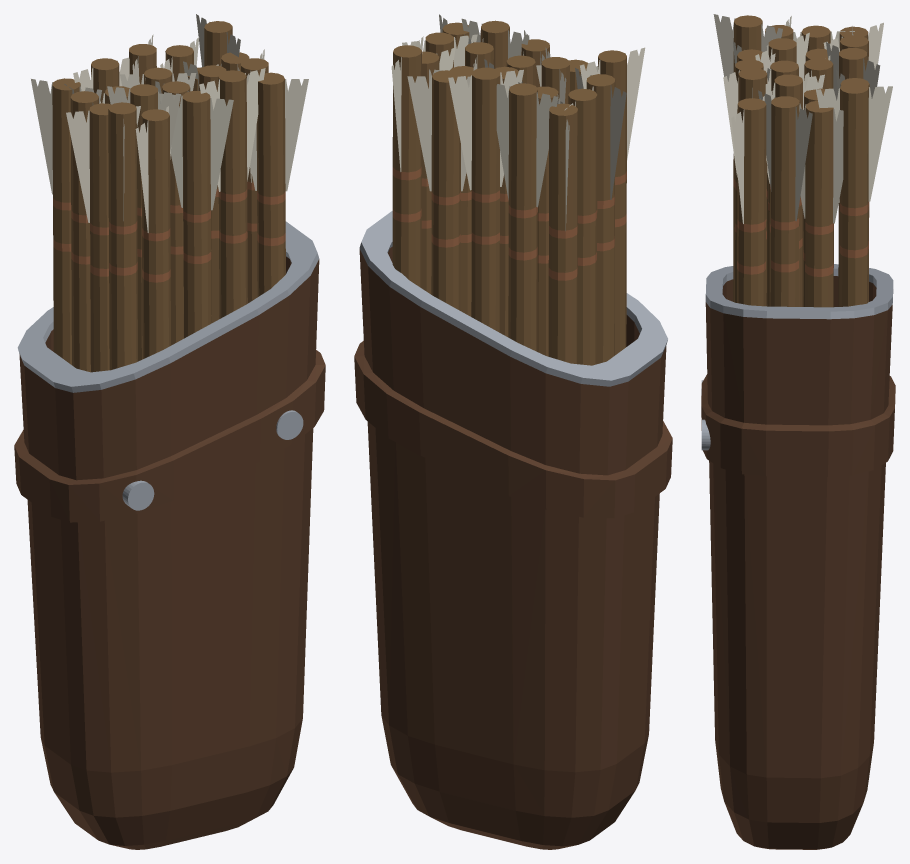
File: Quiver 1.fbx
The picture shows the model from 3 angles, left to right: view 1: azimuth 30°, elevation 25°; view 2: azimuth 150°, elevation 25°; view 3: azimuth 270°, elevation 25°; orthographic projection. The views are drawn at different scales.
Visible parts, largest first — view 1: Quiver -1; view 2: Quiver -1; view 3: Quiver -1.
Boxes of the visible parts, x1,y1,x2,y2 form: Quiver -1: (14, 14, 325, 849); Quiver -1: (354, 14, 672, 849); Quiver -1: (701, 14, 895, 849).
Size of the model in its own units: 0.1478 by 0.3953 by 0.0905.
